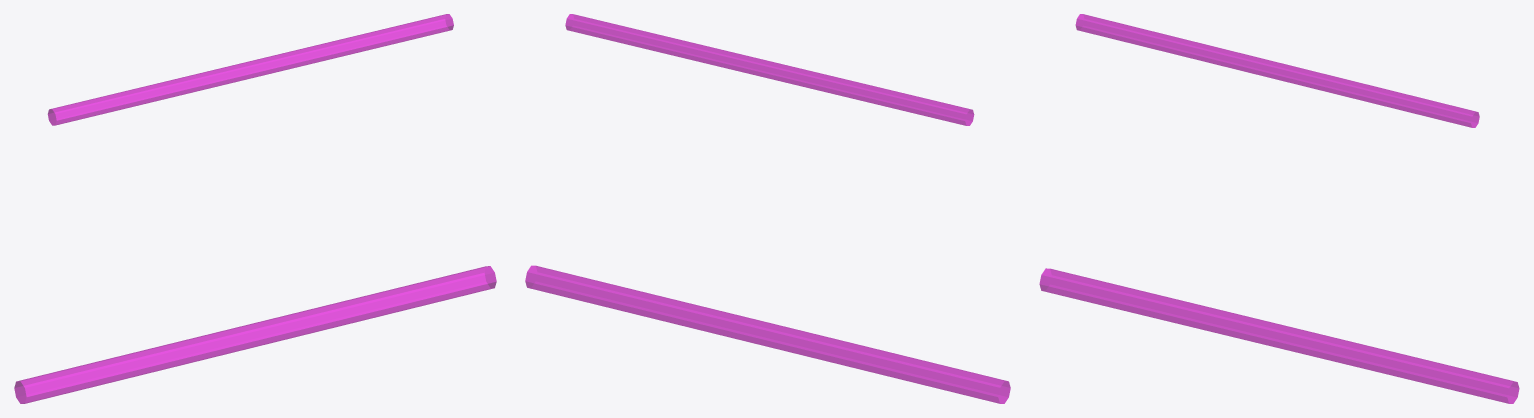
Rendered from SM_Veh_Ship_L_Mast_Back_02_Boom_01_Collision.fbx.
3 views of the same model, side by side, from view 1: azimuth 30°, elevation 25°; view 2: azimuth 150°, elevation 25°; view 3: azimuth 330°, elevation 25° (orthographic).
Visible parts, largest first — view 1: SM_Veh_Ship_L_Mast_Back_02_Boom_01_Collision; view 2: SM_Veh_Ship_L_Mast_Back_02_Boom_01_Collision; view 3: SM_Veh_Ship_L_Mast_Back_02_Boom_01_Collision.
Boxes of the visible parts, left/top/right/bottom form: SM_Veh_Ship_L_Mast_Back_02_Boom_01_Collision: left=14, top=14, right=496, bottom=403; SM_Veh_Ship_L_Mast_Back_02_Boom_01_Collision: left=525, top=14, right=1010, bottom=403; SM_Veh_Ship_L_Mast_Back_02_Boom_01_Collision: left=1039, top=14, right=1519, bottom=403.
Size of the model in its own units: 1424 by 826 by 65.46.
